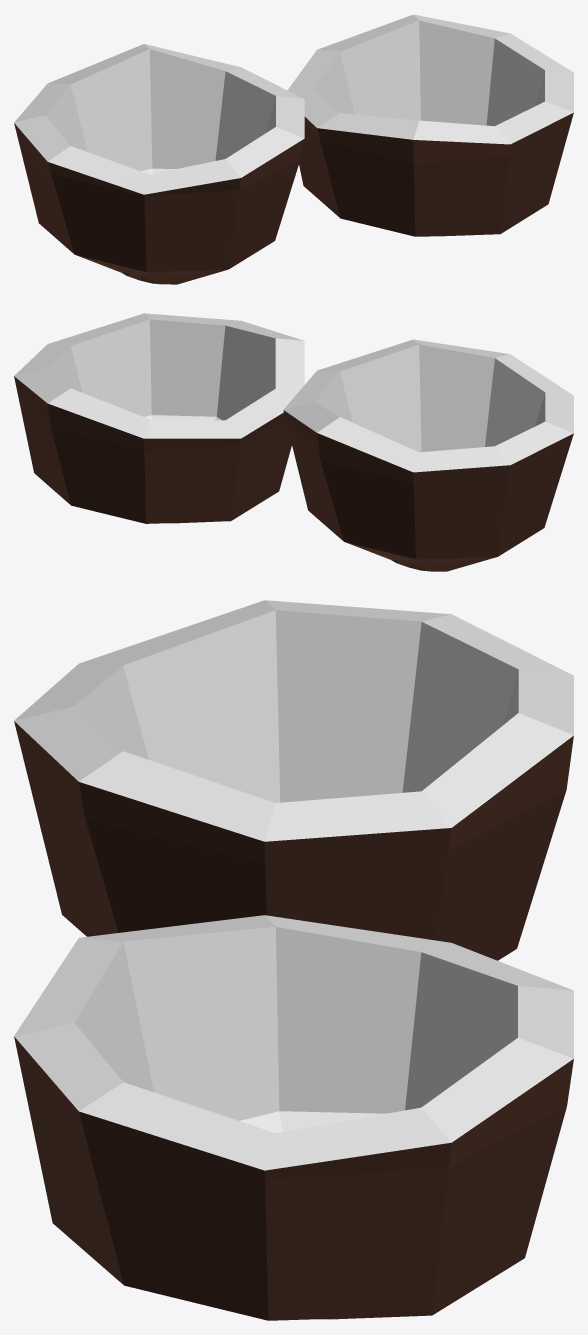
File: OpenCoconut.fbx
3 renders of one model, top to bottom at view 1: azimuth 30°, elevation 25°; view 2: azimuth 150°, elevation 25°; view 3: azimuth 270°, elevation 25°, orthographic. The views are drawn at different scales.
Parts seen in each view (by area): view 1: Coconut_Half_2, Coconut_Half_1; view 2: Coconut_Half_2, Coconut_Half_1; view 3: Coconut_Half_1, Coconut_Half_2.
Boxes of the visible parts, left/top/right/bottom form: Coconut_Half_2: left=14, top=44, right=304, bottom=284; Coconut_Half_1: left=287, top=14, right=573, bottom=236; Coconut_Half_2: left=283, top=339, right=573, bottom=571; Coconut_Half_1: left=14, top=313, right=304, bottom=523; Coconut_Half_1: left=14, top=915, right=573, bottom=1320; Coconut_Half_2: left=14, top=600, right=573, bottom=960.
Size of the model in its own units: 2.74 by 0.9609 by 1.31.
